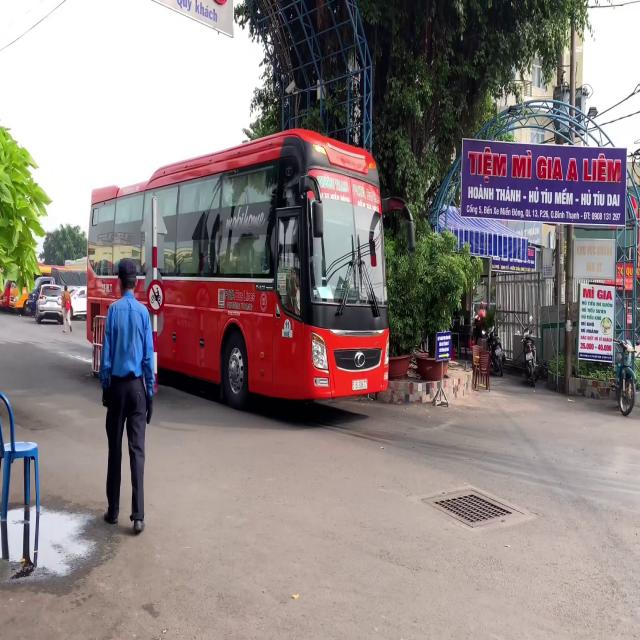bien_trang: (352, 378, 367, 391)
